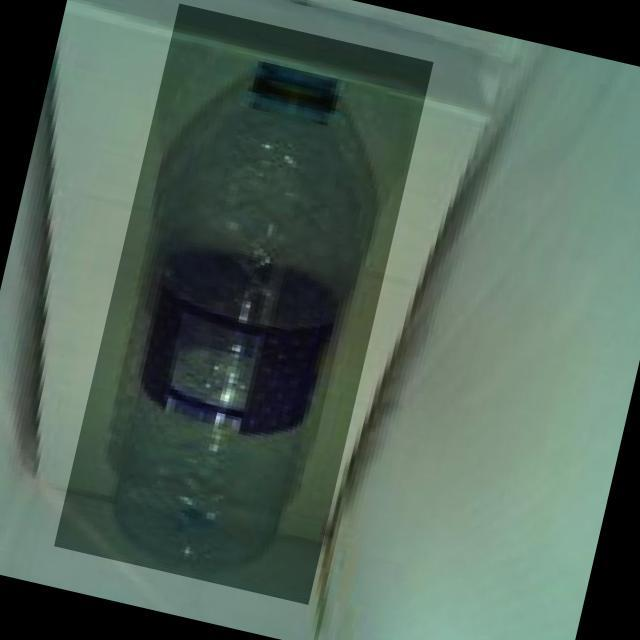good: (52, 2, 432, 603)
